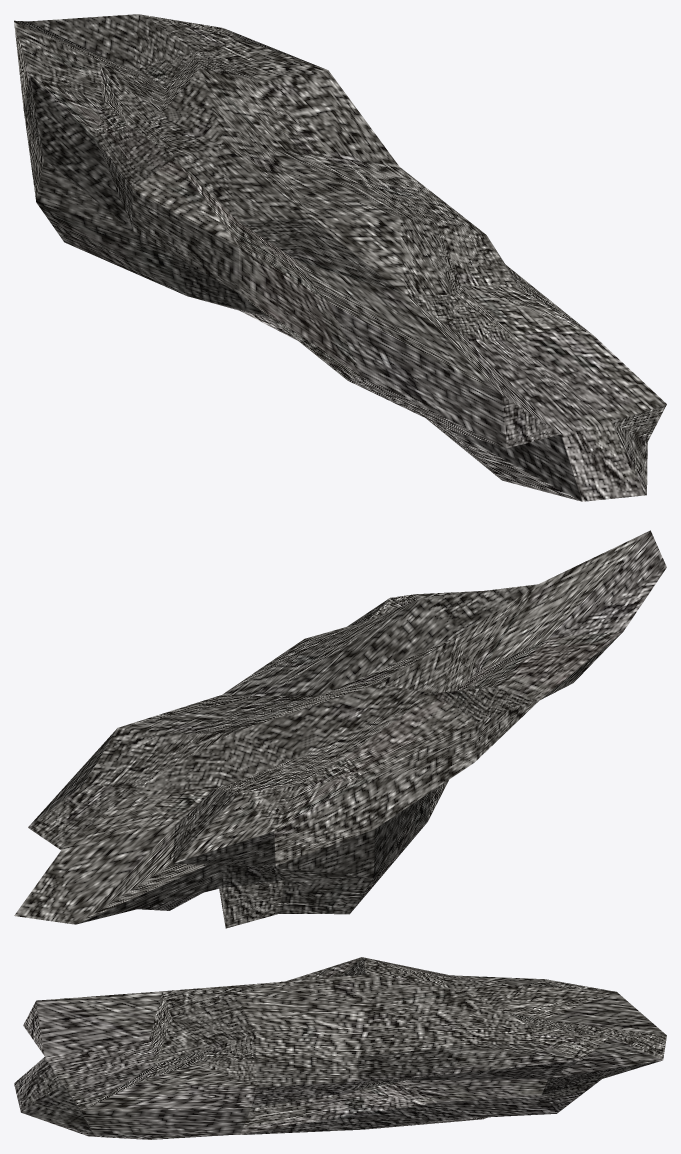
File: rock_12-convcol.glb
3 renders of one model, top to bottom at view 1: azimuth 30°, elevation 25°; view 2: azimuth 150°, elevation 25°; view 3: azimuth 270°, elevation 25°, orthographic. The views are drawn at different scales.
Visible parts, largest first — view 1: rock_12-convcol; view 2: rock_12-convcol; view 3: rock_12-convcol.
Part boxes in pixels (x1,y1,x2,y2): rock_12-convcol: [14, 14, 666, 501]; rock_12-convcol: [14, 530, 666, 928]; rock_12-convcol: [14, 957, 666, 1139].
Bounding box in the file's own units: 2.74 × 1.84 × 8.51.
1 material, 1 textured.
